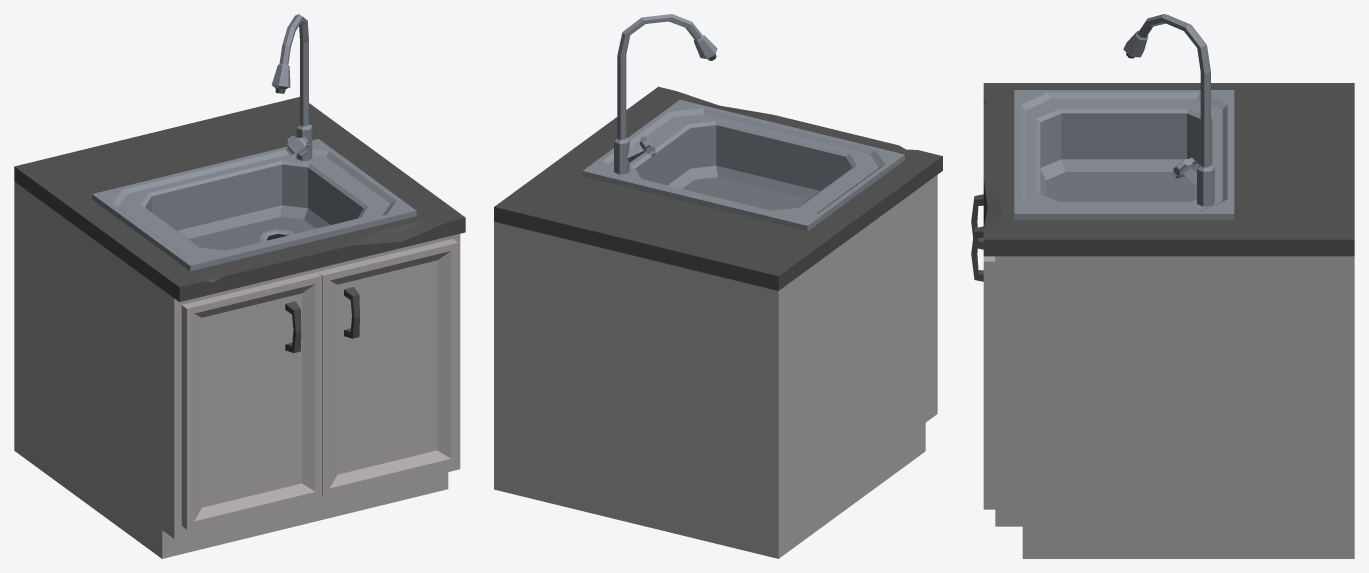
File: SM_Prop_Kitchen_CounterSink_01.glb
3 views of the same model, side by side, from view 1: azimuth 30°, elevation 25°; view 2: azimuth 150°, elevation 25°; view 3: azimuth 270°, elevation 25° (orthographic). The views are drawn at different scales.
Visible parts, largest first — view 1: SM_Prop_Kitchen_CounterSink_01; view 2: SM_Prop_Kitchen_CounterSink_01; view 3: SM_Prop_Kitchen_CounterSink_01.
Part boxes in pixels (<box>): SM_Prop_Kitchen_CounterSink_01: <box>14,14,465,558</box>; SM_Prop_Kitchen_CounterSink_01: <box>494,14,942,558</box>; SM_Prop_Kitchen_CounterSink_01: <box>971,14,1354,558</box>.
Size of the model in its own units: 1 by 1.47 by 1.03.
3 materials, 3 textured.
